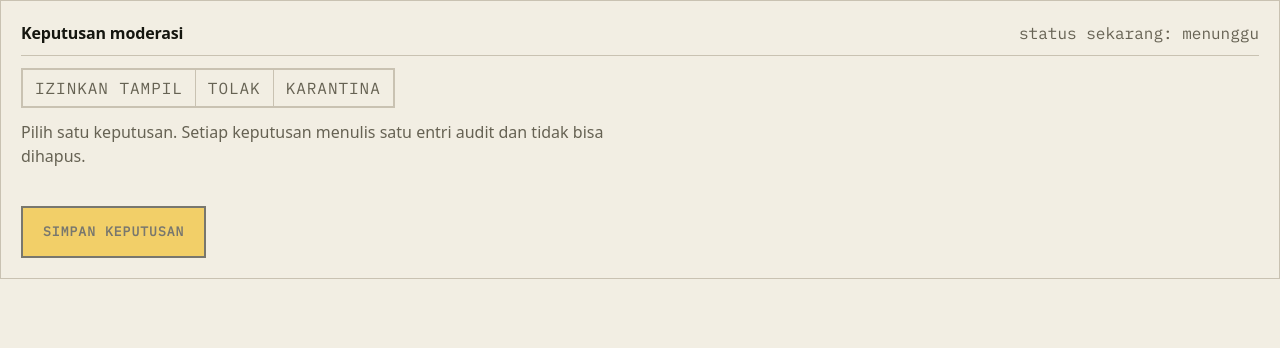
it: ModerationDecision › approves without a reason and reports what changed
Click the button "Izinkan tampil".
click(109, 88)  # box x1=23 y1=70 x2=195 y2=106
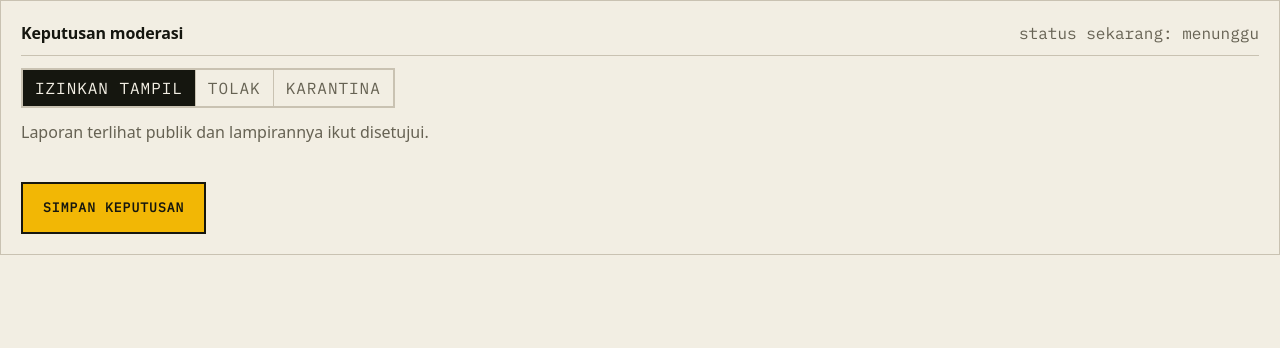
Click the button "Simpan keputusan".
click(114, 208)  # box x1=21 y1=182 x2=206 y2=234
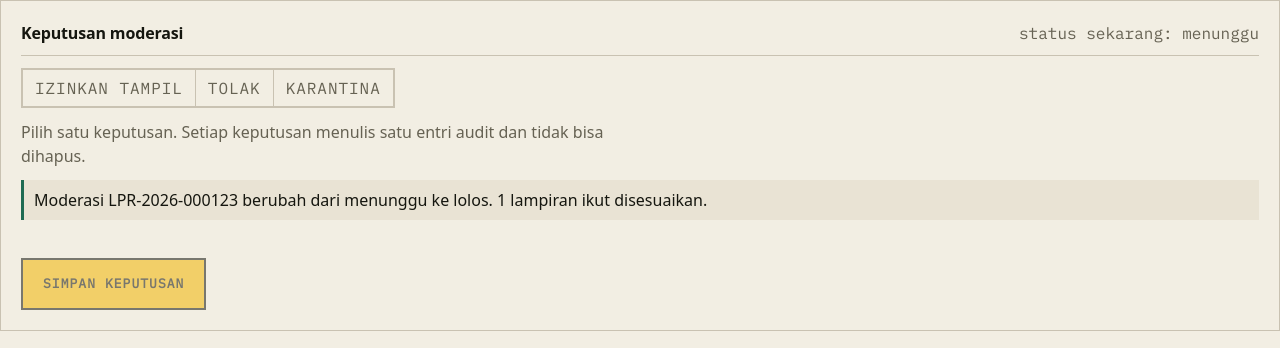
Now the text "berubah dari menunggu ke lolos" is shown, box x1=34 y1=189 x2=707 y2=211
